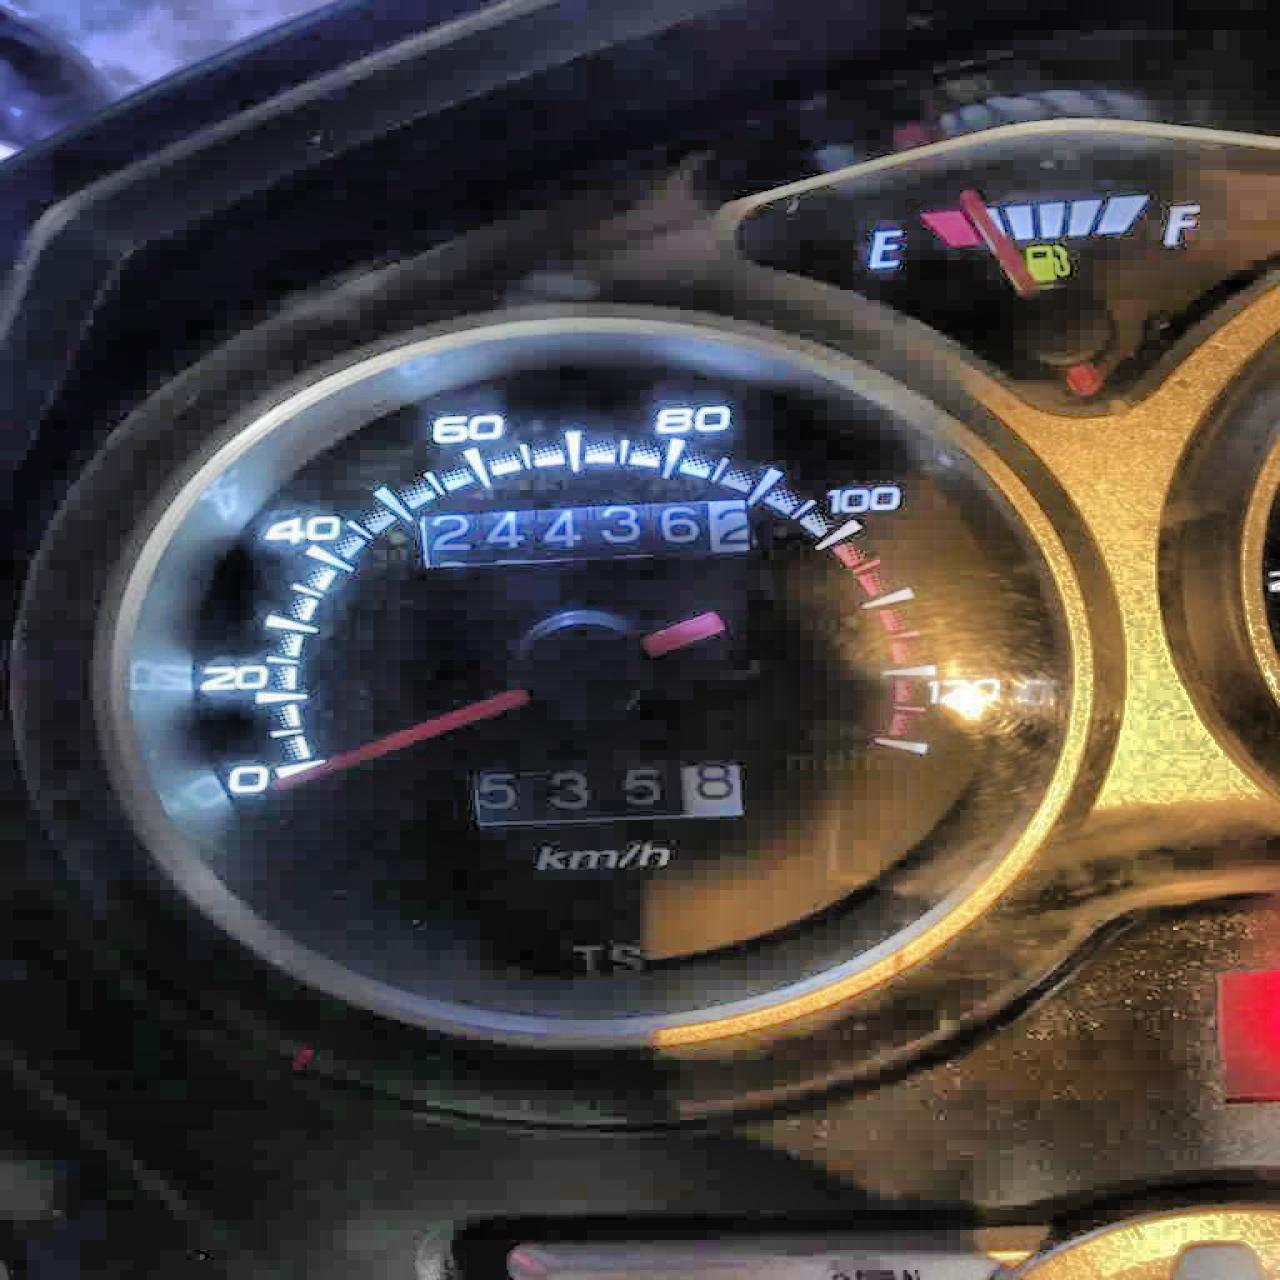2: (428, 512, 471, 551), (715, 506, 751, 545)
3: (600, 505, 640, 543)
4: (542, 508, 580, 546), (485, 510, 523, 547)
6: (659, 505, 700, 543)
odometer: (414, 498, 754, 570)
